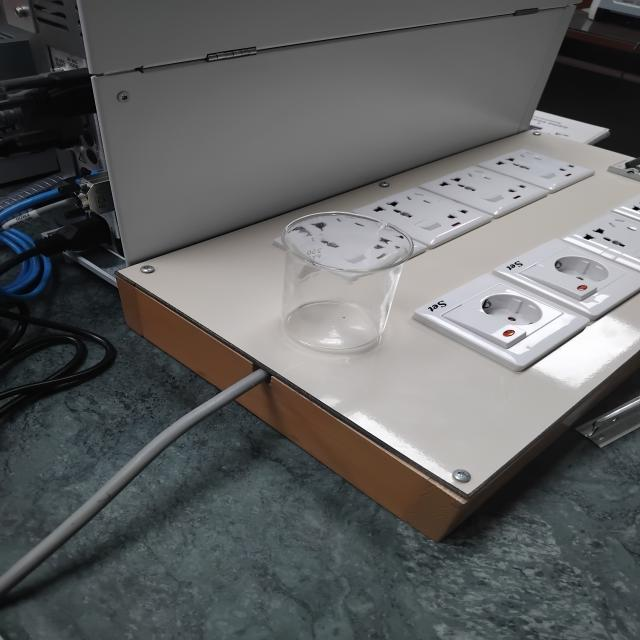Beaker: (234, 191, 465, 384)
